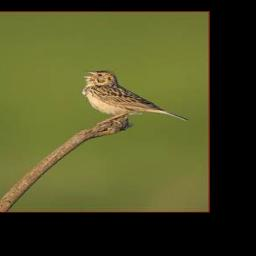Sparrow: (82, 69, 190, 126)
